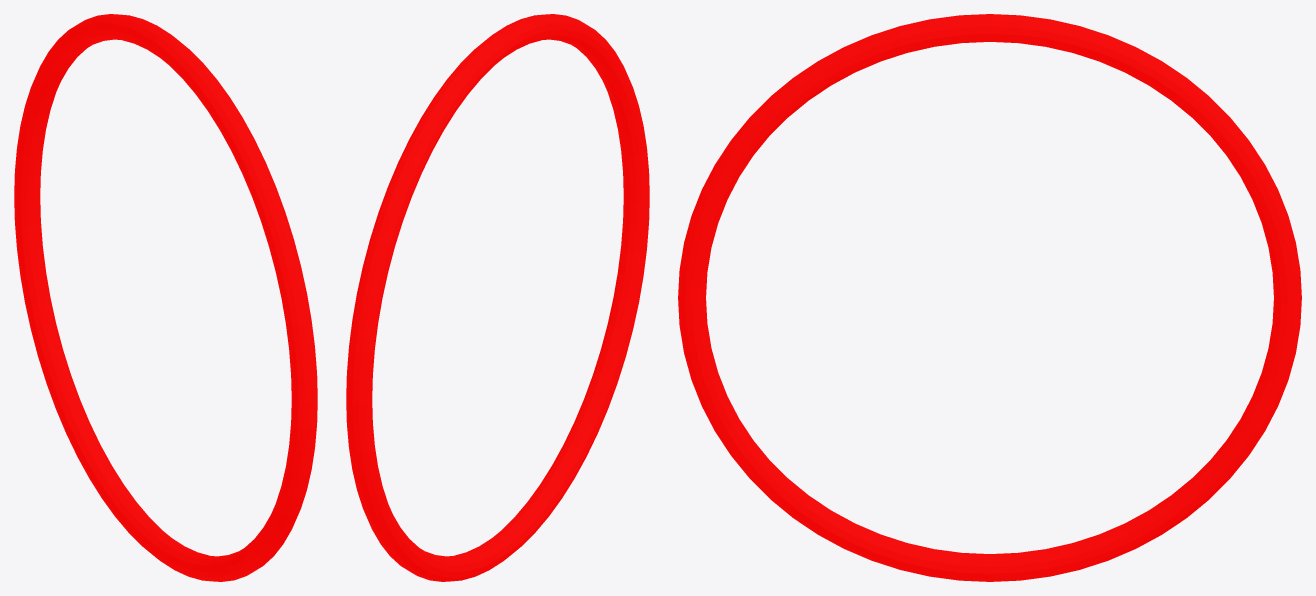
The model's file is rotate_x.glb.
The picture shows the model from 3 angles, left to right: view 1: azimuth 30°, elevation 25°; view 2: azimuth 150°, elevation 25°; view 3: azimuth 270°, elevation 25°; orthographic projection. The views are drawn at different scales.
Visible parts, largest first — view 1: Ring_X; view 2: Ring_X; view 3: Ring_X.
Part boxes in pixels (x1,y1,x2,y2): Ring_X: (14, 14, 317, 581); Ring_X: (346, 14, 649, 581); Ring_X: (678, 14, 1301, 581).
Size of the model in its own units: 0.0564 by 1.26 by 1.26.
